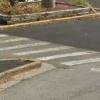Crosswalk: (5, 28, 100, 72)
